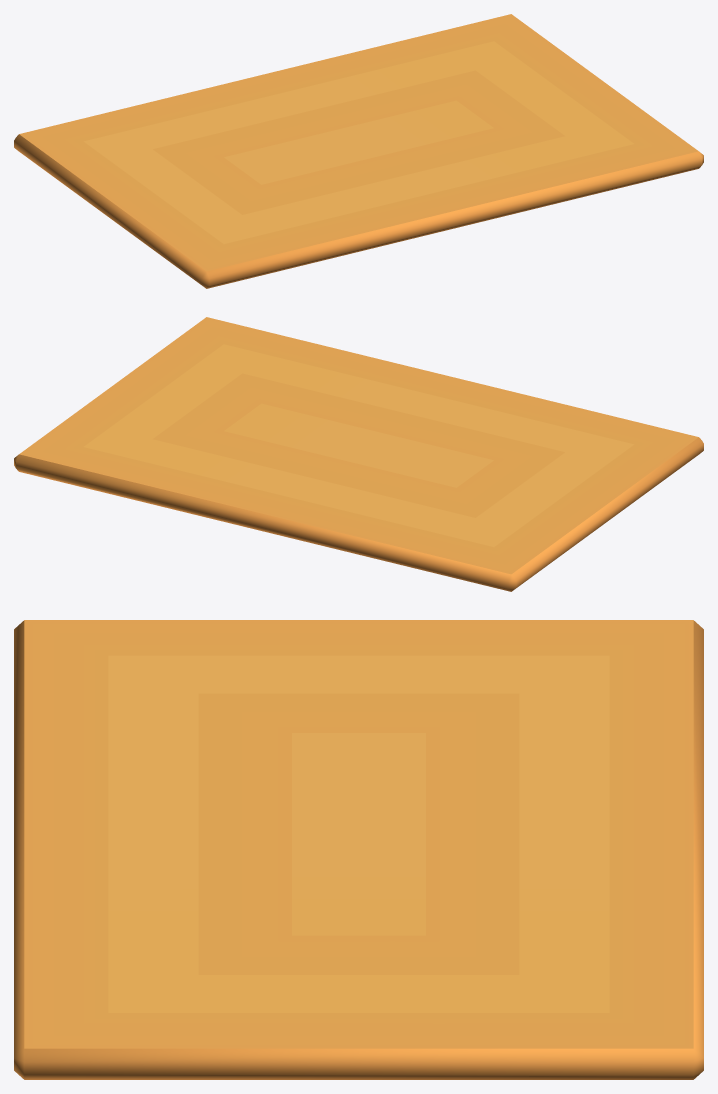
Rendered from kkf.rug_rectangle_stripes_a.glb.
3 renders of one model, top to bottom at view 1: azimuth 30°, elevation 25°; view 2: azimuth 150°, elevation 25°; view 3: azimuth 270°, elevation 25°, orthographic. The views are drawn at different scales.
Parts seen in each view (by area): view 1: rug_rectangle_stripes_A; view 2: rug_rectangle_stripes_A; view 3: rug_rectangle_stripes_A.
Boxes of the visible parts, x1,y1,x2,y2 form: rug_rectangle_stripes_A: (14, 14, 703, 288); rug_rectangle_stripes_A: (14, 317, 703, 591); rug_rectangle_stripes_A: (14, 620, 703, 1079).
Size of the model in its own units: 2.15 by 0.0715 by 1.43.
1 material, 1 textured.
